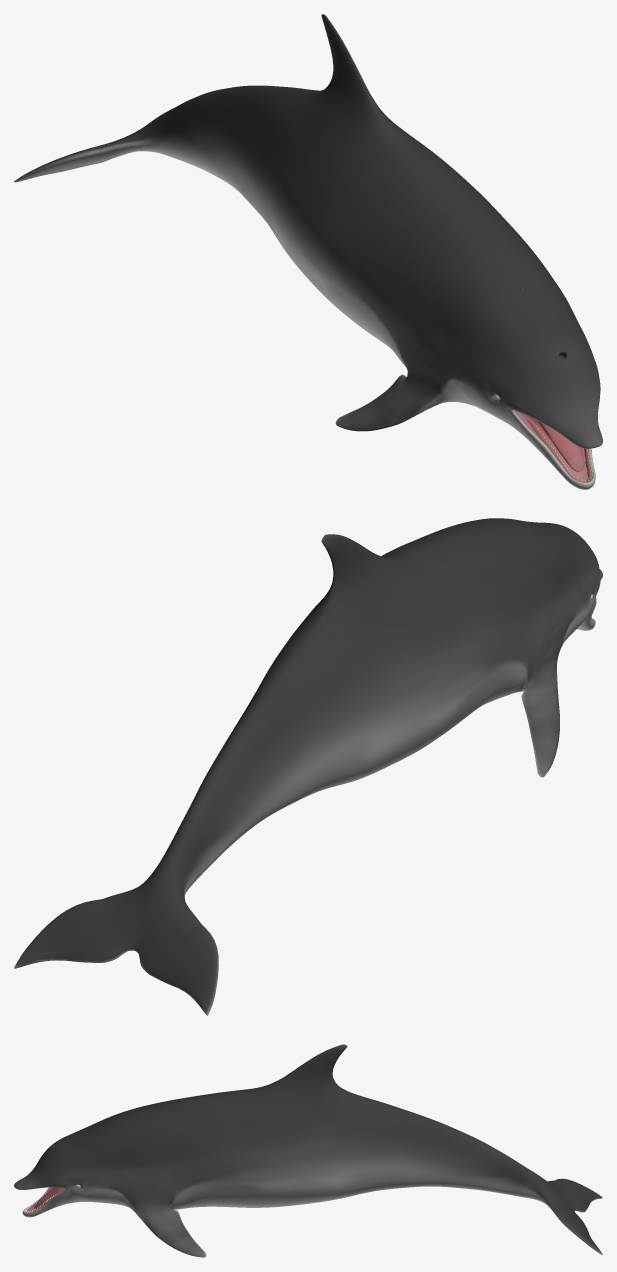
The model's file is Dolphin.obj.
3 views of the same model, one above another, from view 1: azimuth 30°, elevation 25°; view 2: azimuth 150°, elevation 25°; view 3: azimuth 270°, elevation 25° (orthographic). The views are drawn at different scales.
Visible parts, largest first — view 1: Dolphin_Mesh_Dolphin_Retopo_Low.012, Tongue_Tongue_Retopo.002; view 2: Dolphin_Mesh_Dolphin_Retopo_Low.012; view 3: Dolphin_Mesh_Dolphin_Retopo_Low.012.
Boxes of the visible parts, left/top/right/bottom form: Dolphin_Mesh_Dolphin_Retopo_Low.012: left=14, top=14, right=602, bottom=489; Tongue_Tongue_Retopo.002: left=537, top=421, right=584, bottom=471; Dolphin_Mesh_Dolphin_Retopo_Low.012: left=14, top=518, right=602, bottom=1015; Dolphin_Mesh_Dolphin_Retopo_Low.012: left=14, top=1044, right=602, bottom=1257.
Size of the model in its own units: 1.17 by 1.62 by 4.74.
